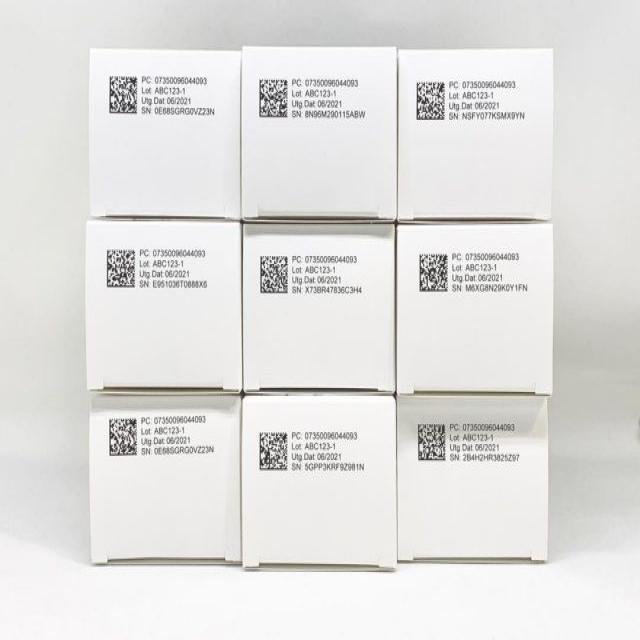datamatrix: (106, 74, 139, 118), (257, 76, 290, 120), (413, 80, 446, 124), (418, 250, 451, 294), (257, 250, 290, 294), (105, 246, 138, 290), (106, 414, 139, 458), (257, 428, 290, 472), (415, 420, 448, 464)
